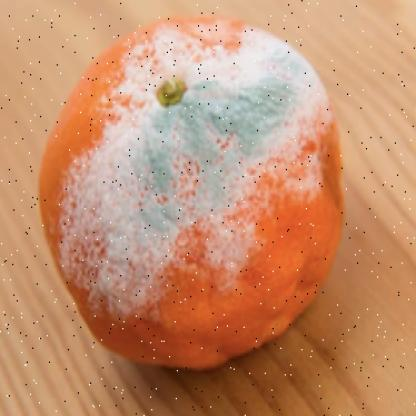rotten: (43, 18, 343, 374)
